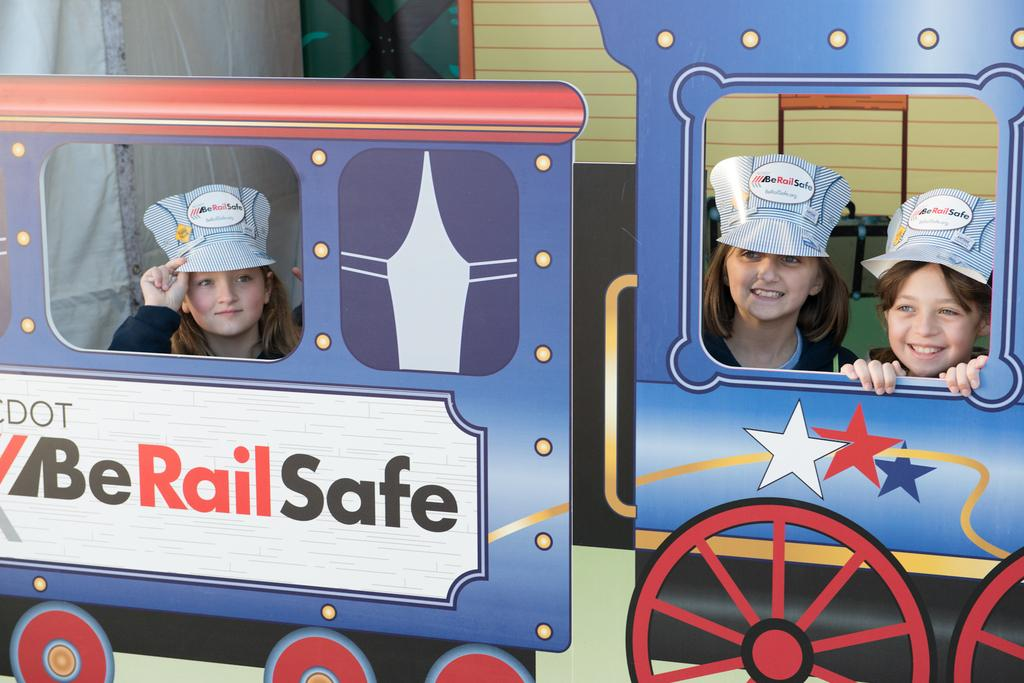Hat: (710, 151, 854, 256), (856, 188, 998, 288), (139, 183, 277, 274)
